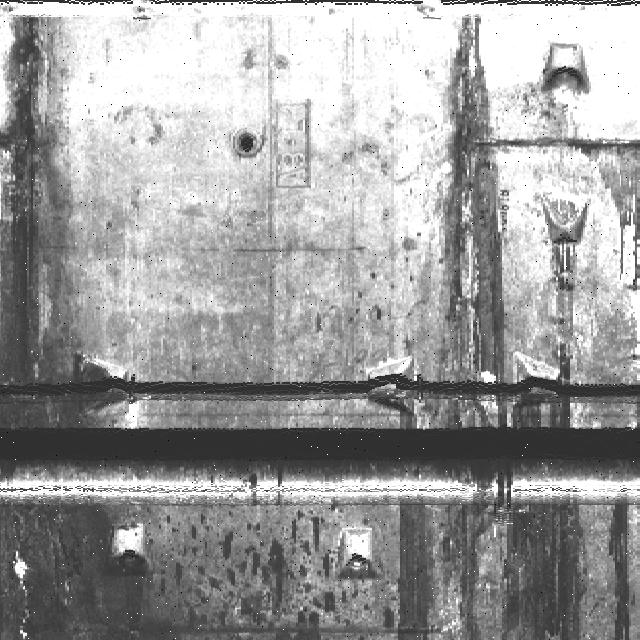leakage: (0, 0, 178, 636), (388, 4, 507, 639), (514, 322, 586, 639), (579, 132, 639, 296), (604, 492, 635, 637)
